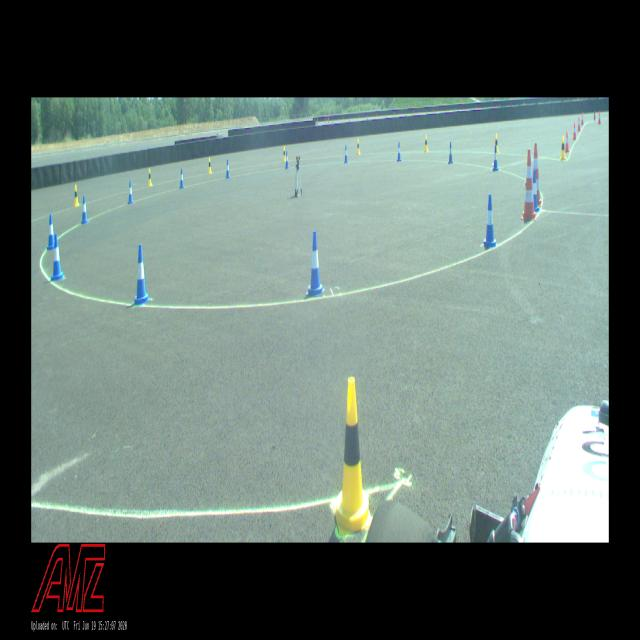blue_cone: (306, 231, 325, 297), (132, 244, 151, 306), (483, 194, 496, 248), (51, 234, 64, 280), (532, 171, 540, 212), (46, 214, 54, 250), (80, 196, 89, 223), (127, 180, 135, 204), (492, 146, 498, 171), (179, 168, 185, 188), (448, 141, 453, 164), (396, 142, 402, 161), (226, 159, 230, 179), (344, 144, 348, 164), (285, 150, 289, 168)
large_orange_cone: (520, 149, 538, 221), (532, 144, 542, 206)
orange_cone: (565, 131, 570, 152), (572, 123, 577, 140), (577, 117, 581, 131), (598, 110, 601, 124), (581, 112, 584, 125)
yellow_cone: (333, 377, 372, 536), (560, 136, 566, 160), (74, 184, 80, 207), (494, 134, 499, 154), (148, 168, 153, 186), (356, 139, 361, 155), (424, 135, 428, 152), (208, 157, 212, 174), (283, 146, 286, 161)
